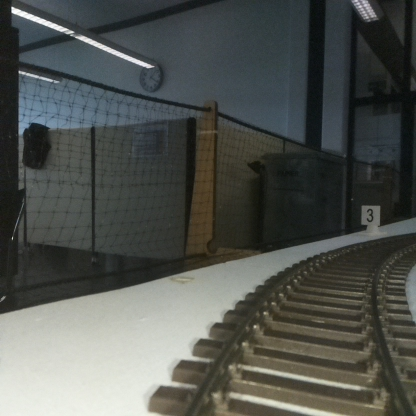white-stop-3: (361, 205, 380, 236)
